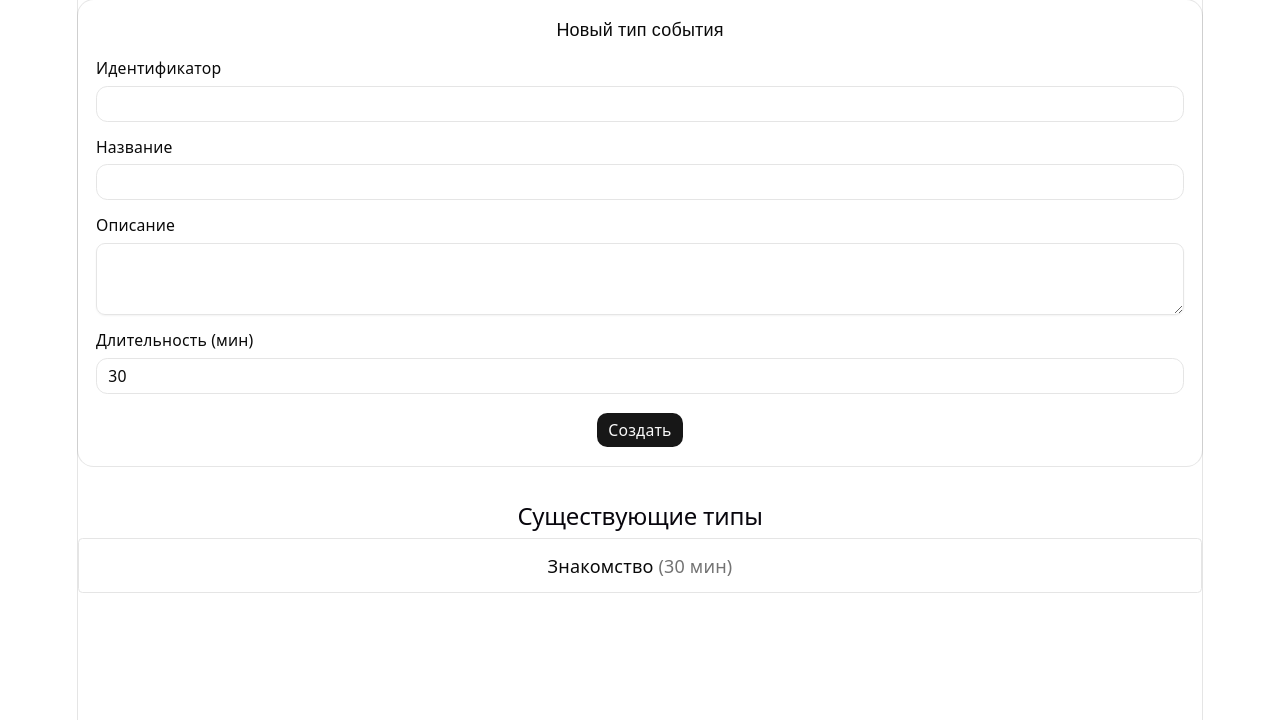
OwnerEventTypesPage › attaches a 409 conflict to the id field
Type "intro-call" into the field labelled "Идентификатор" at (640, 104), box [96, 86, 1184, 122]
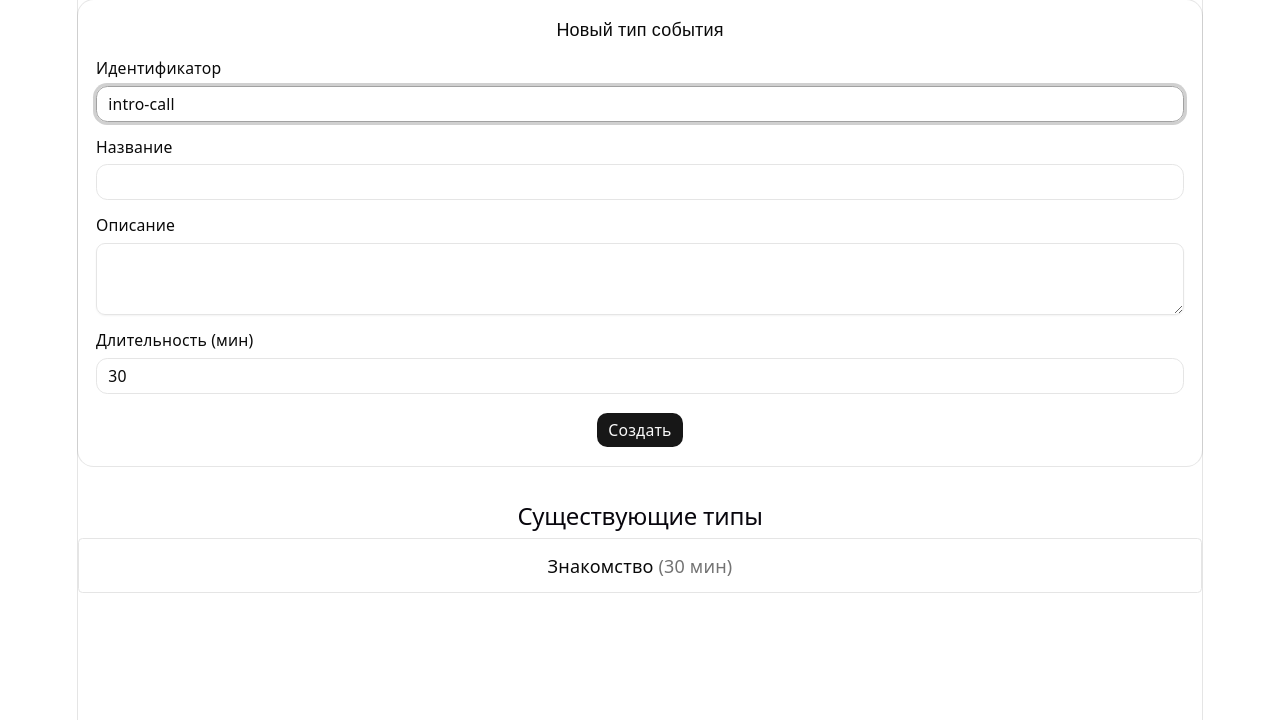
Type "Дубликат" into the field labelled "Название" at (640, 182), box [96, 164, 1184, 200]
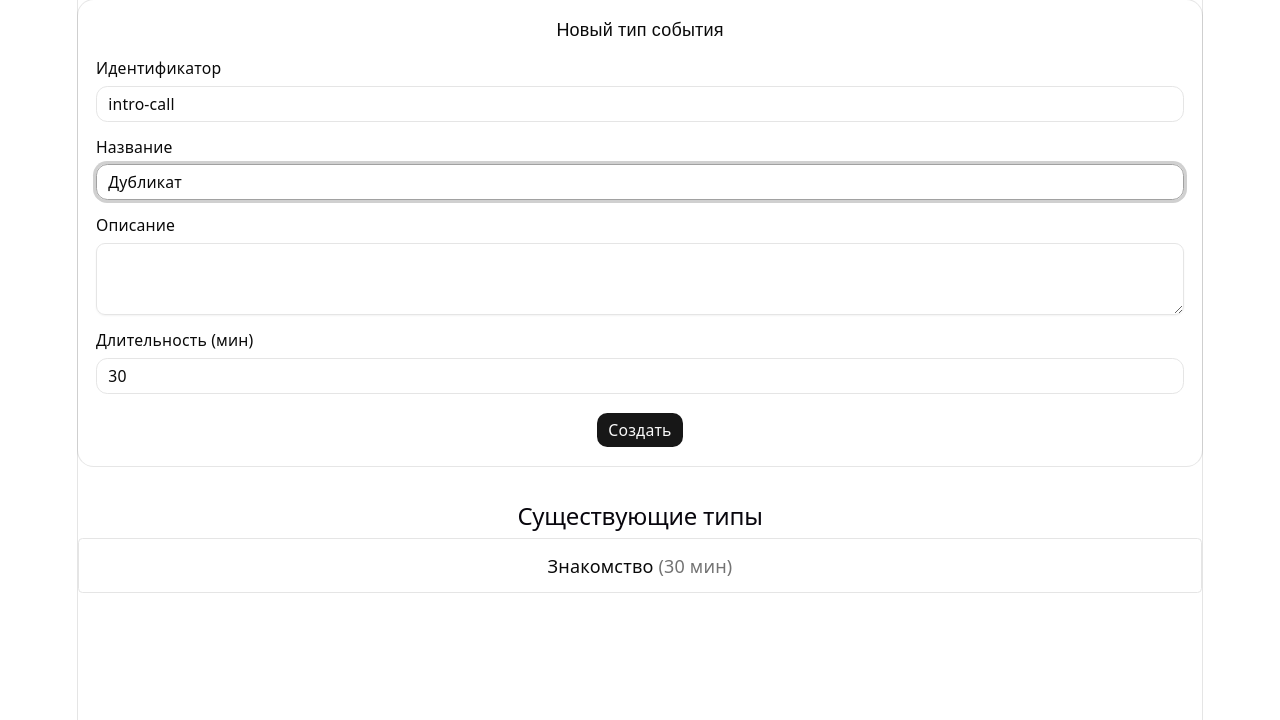
Click the button "Создать" at (640, 430), box [596, 412, 684, 448]
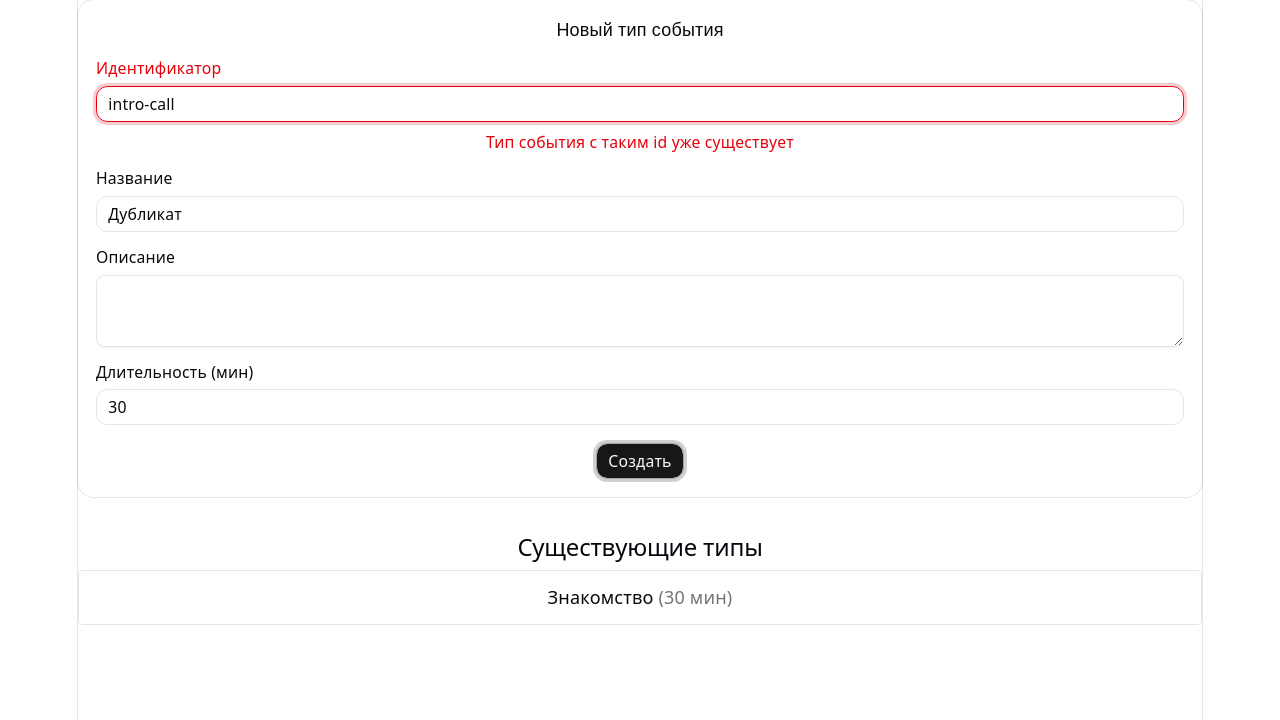
expect the text "Тип события с таким id уже существует" is shown: met, box [486, 130, 794, 152]
